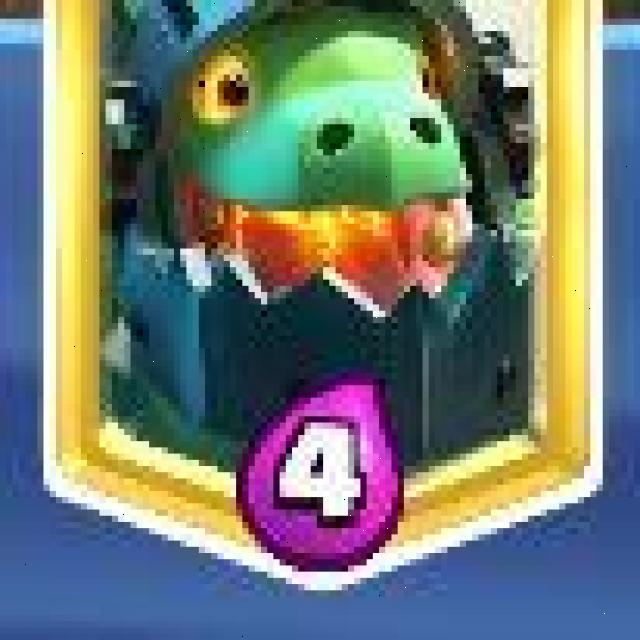Inferno_Dragon: (39, 0, 602, 594)
